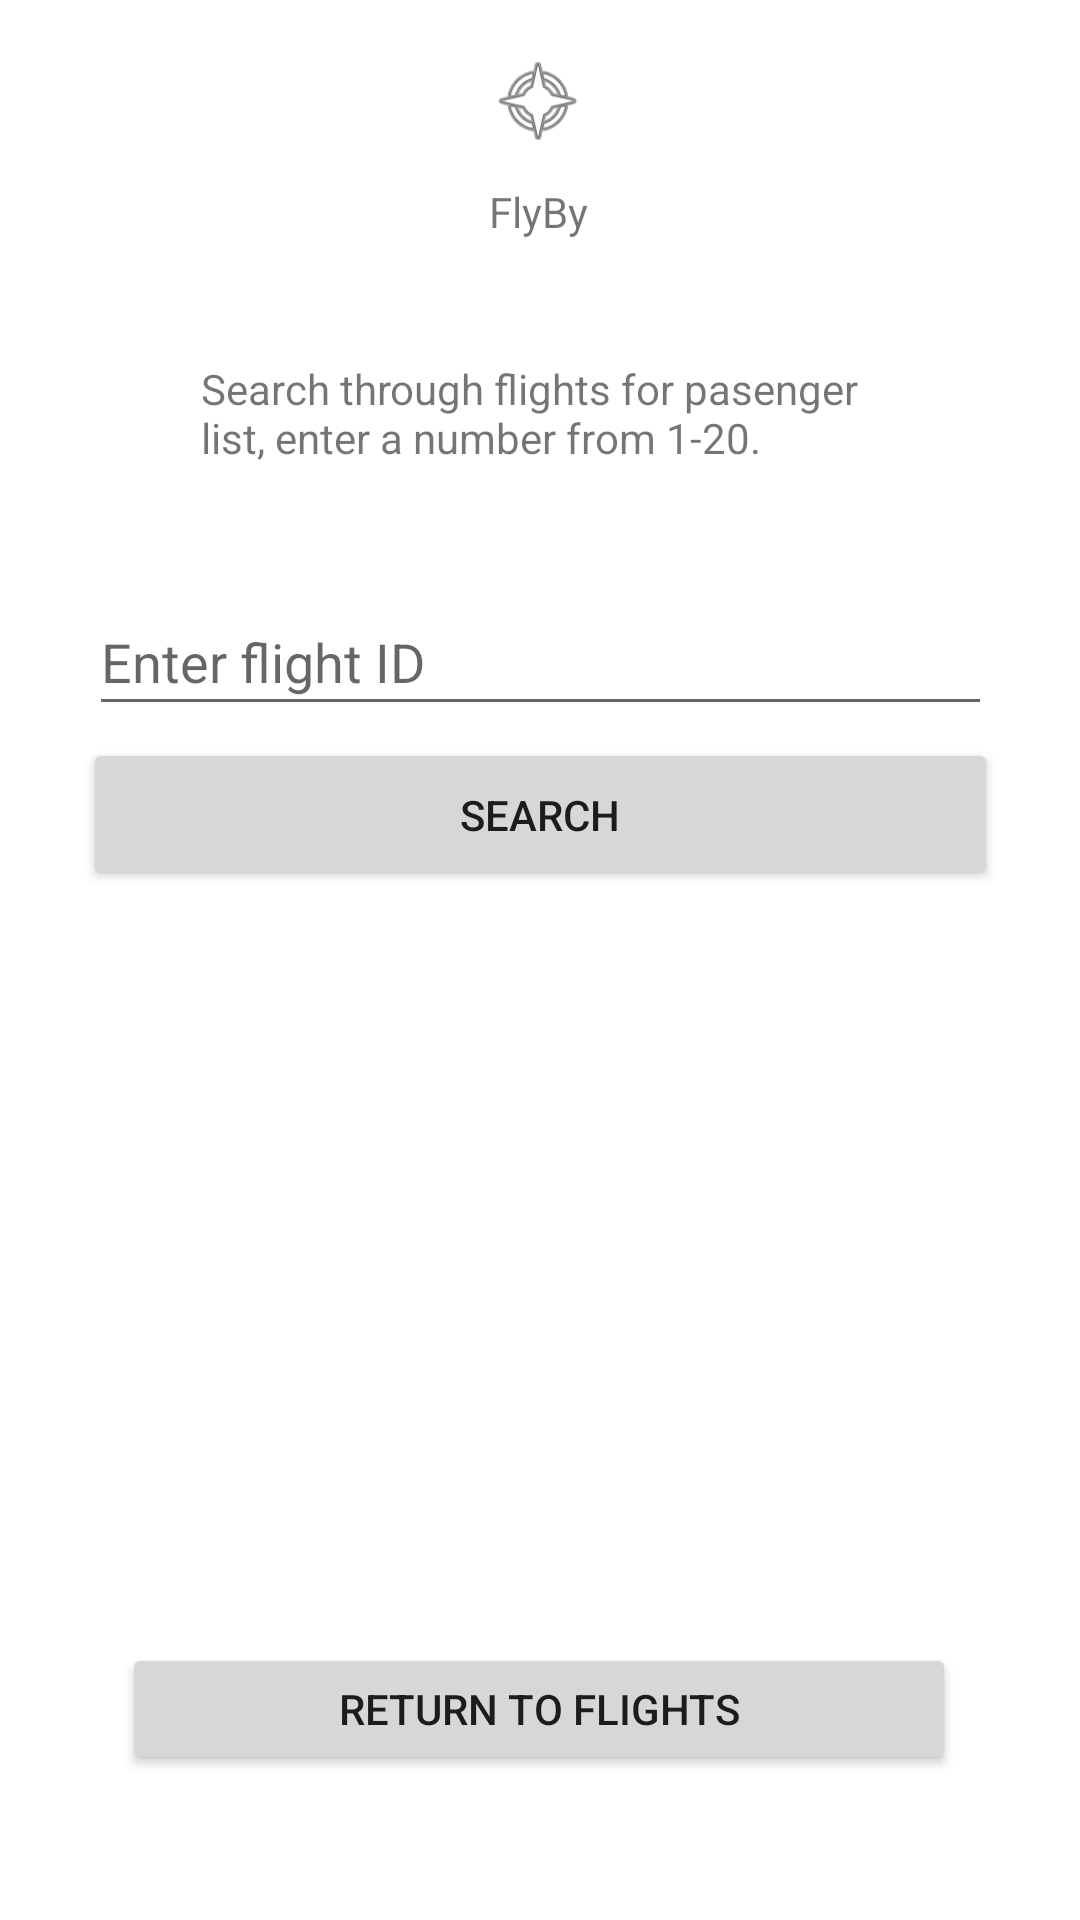

Icons on this 1080 × 1920 Android screen, each with its box as (x1, y1, x2, y2):
compass: (499, 62, 577, 140)
